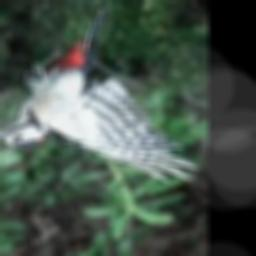Woodpecker: (0, 7, 196, 184)
